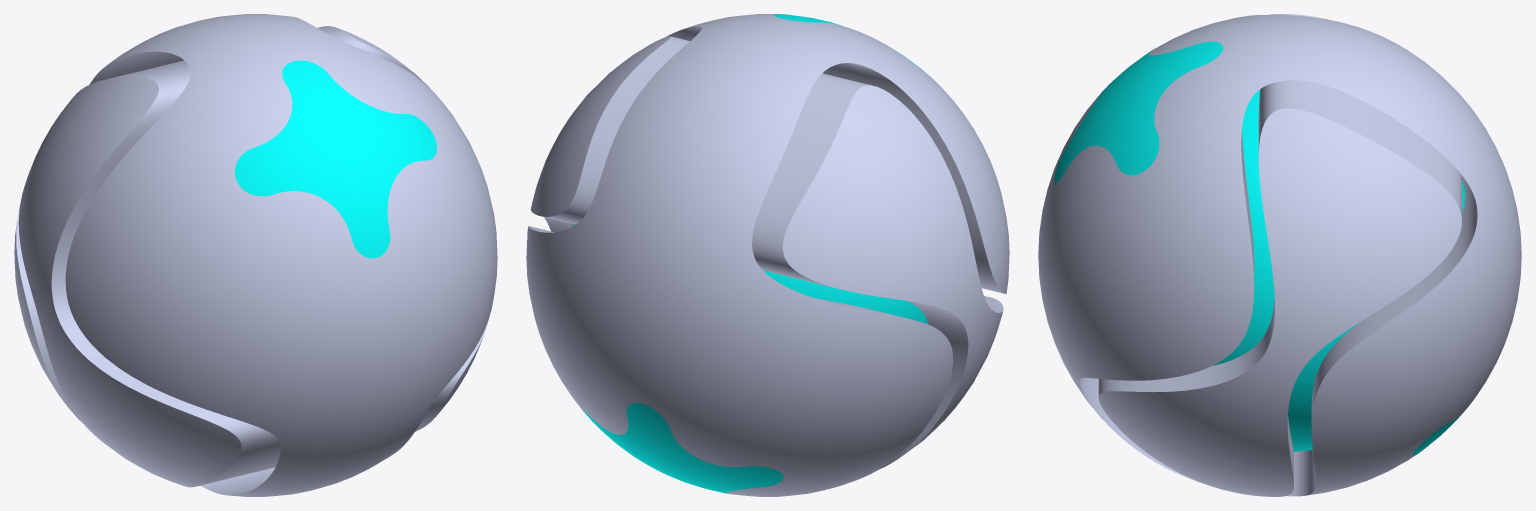
The model's file is ball.fbx.
3 renders of one model, left to right at view 1: azimuth 30°, elevation 25°; view 2: azimuth 150°, elevation 25°; view 3: azimuth 270°, elevation 25°, orthographic.
Visible parts, largest first — view 1: 3DGeom~11, 3DGeom~10; view 2: 3DGeom~11, 3DGeom~10; view 3: 3DGeom~11, 3DGeom~10.
Part boxes in pixels (x1,y1,x2,y2): 3DGeom~11: (14, 14, 497, 496); 3DGeom~10: (234, 60, 436, 258); 3DGeom~11: (526, 14, 1009, 496); 3DGeom~10: (573, 14, 927, 493); 3DGeom~11: (1038, 14, 1521, 496); 3DGeom~10: (1054, 41, 1465, 455).
Bounding box in the file's own units: 0.1997 × 0.2 × 0.2.
